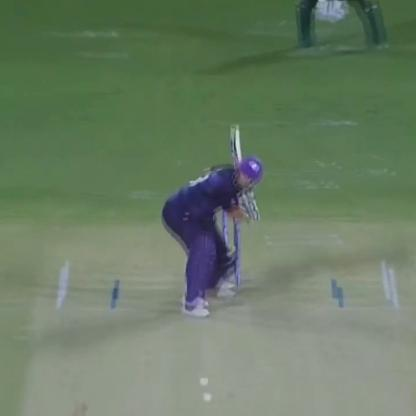ball: (193, 375, 214, 388), (198, 390, 215, 406)
bat: (220, 122, 258, 163)
pitch: (21, 256, 406, 415)
